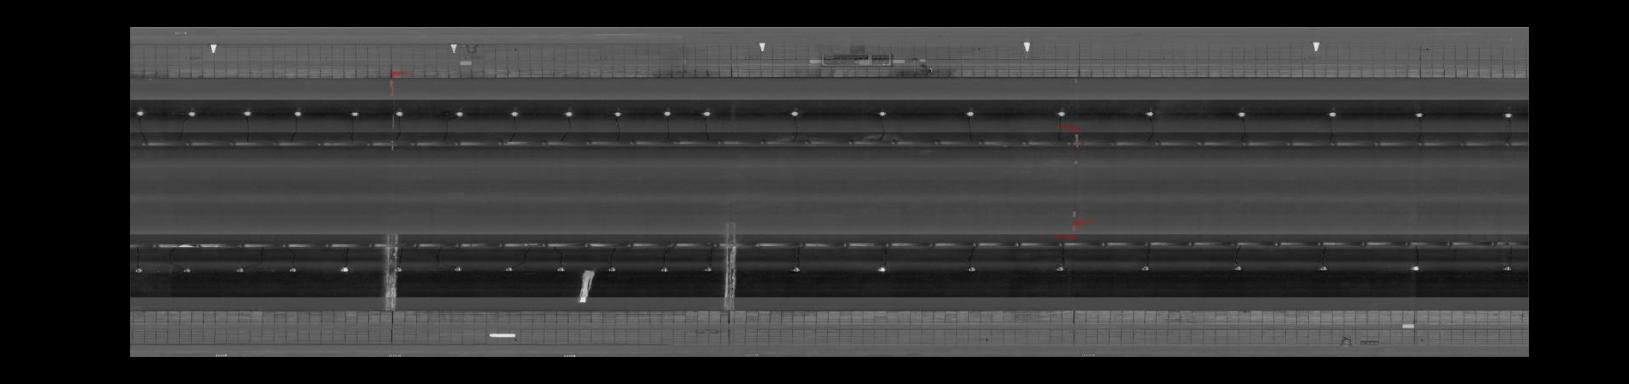light: (872, 262, 892, 275), (784, 107, 806, 119), (872, 106, 890, 119), (1134, 262, 1154, 274), (1407, 260, 1424, 274), (1314, 262, 1332, 275), (1051, 107, 1070, 119), (1498, 260, 1515, 274), (963, 263, 981, 275), (501, 263, 518, 275), (289, 107, 306, 119), (185, 106, 201, 119), (1141, 107, 1157, 119), (1233, 108, 1250, 120), (961, 107, 978, 119), (451, 107, 468, 119), (787, 264, 805, 275), (179, 262, 193, 275), (133, 263, 146, 277), (610, 107, 625, 119), (561, 107, 577, 119), (1229, 262, 1246, 273), (659, 108, 675, 119), (239, 107, 256, 118), (1323, 109, 1340, 119), (133, 107, 148, 119), (1052, 264, 1068, 275), (337, 263, 352, 274), (392, 106, 407, 117), (1411, 110, 1430, 119), (552, 264, 568, 274), (284, 264, 300, 274), (658, 264, 672, 275), (451, 264, 465, 275), (507, 108, 522, 119), (1500, 110, 1516, 120), (698, 107, 714, 117), (701, 264, 715, 275), (604, 264, 617, 275), (233, 264, 246, 275), (347, 108, 360, 119), (393, 264, 406, 274)
